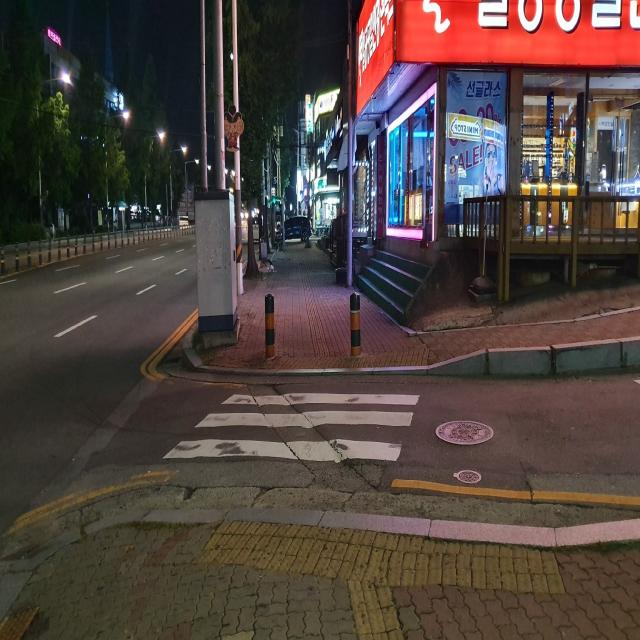횡단보도: (162, 392, 421, 465)
